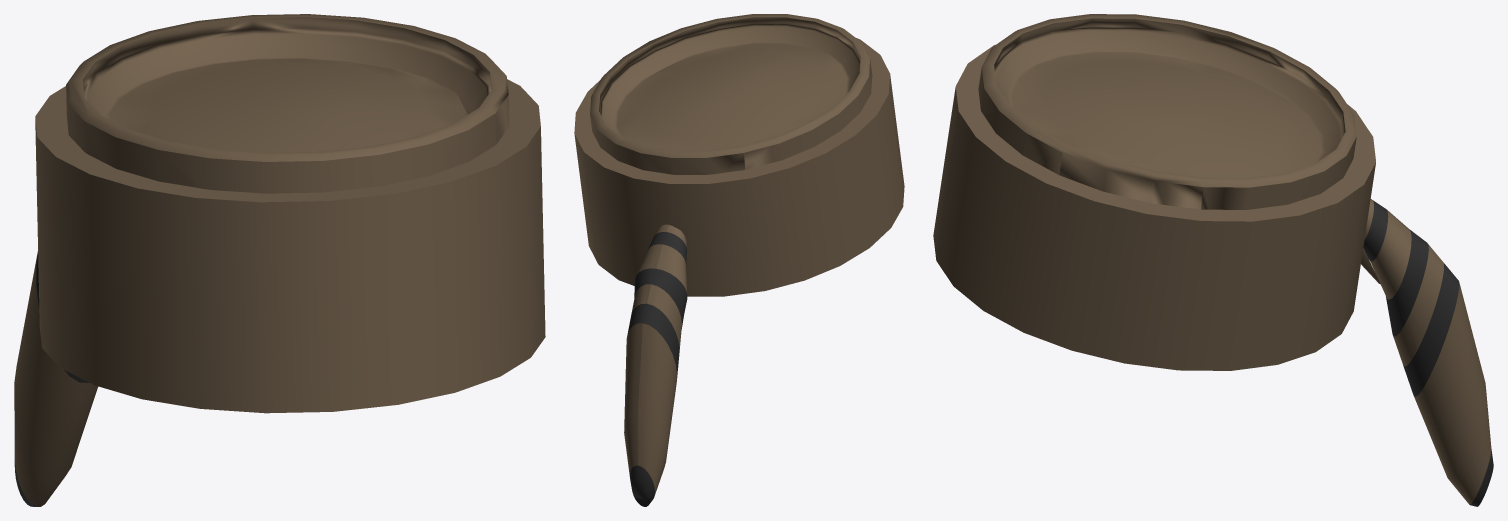
Rendered from hunterhat.fbx.
3 renders of one model, left to right at view 1: azimuth 30°, elevation 25°; view 2: azimuth 150°, elevation 25°; view 3: azimuth 270°, elevation 25°, orthographic. The views are drawn at different scales.
Visible parts, largest first — view 1: hunterhat; view 2: hunterhat; view 3: hunterhat.
Part boxes in pixels (x1,y1,x2,y2): hunterhat: (14,14,545,506); hunterhat: (574,14,904,506); hunterhat: (933,14,1493,506).
Size of the model in its own units: 144 by 178 by 200.
